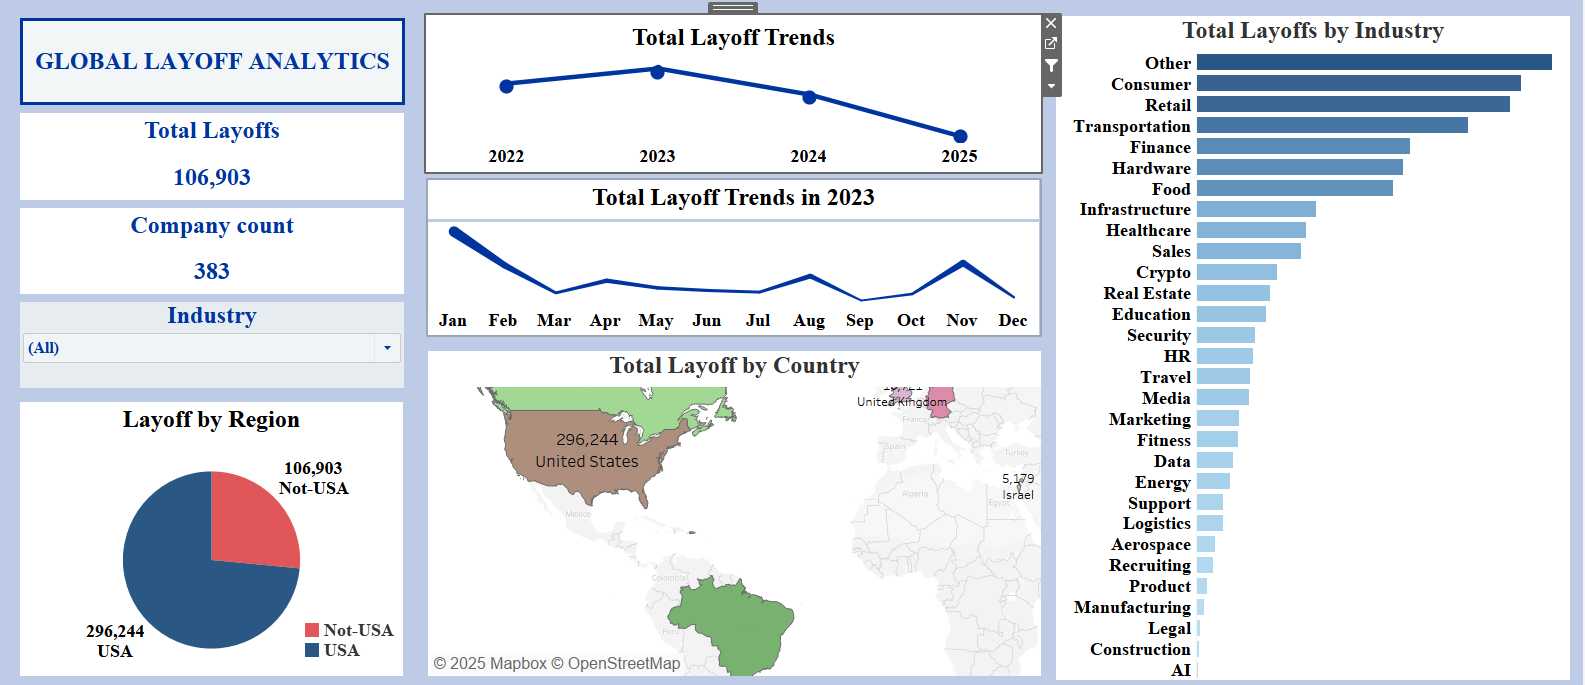

This screenshot's page, from the dashboard's own definition file:
{"tool":"tableau","page":{"name":"Intro-Layoff","canvas":[1000,1000],"units":"permille","ordinal":0},"visuals":[{"type":"blank","box":[5.1,11.6,989.8,976.9]},{"type":"text","box":[10.6,24.6,248.3,137.3]},{"type":"worksheet","title":"Total Layoff Trends","mark":"Line","rows":["total_laid_off","total_laid_off"],"cols":["date"],"box":[269.5,26,388.4,226.9]},{"type":"worksheet","title":"Total Layoffs by Industry","mark":"Automatic","rows":["industry"],"cols":["total_laid_off"],"box":[667.3,27.5,324.4,959.5]},{"type":"worksheet","title":"Total Laidoffs","mark":"Automatic","box":[10.8,161.8,247.6,137.3]},{"type":"legend","title":"company","param":"[federated.1p9ztxb1jo8dkp13gholg130fsgb].[ctd:company:qk]","box":[814.1,214.8,72.9,92.6]},{"type":"worksheet","title":"Total Layoff Trends  in 2023","mark":"Line","rows":["total_laid_off"],"cols":["date"],"box":[271.1,264.4,386,224]},{"type":"worksheet","title":"company","mark":"Text","box":[10.8,299.1,247.6,135.8]},{"type":"filter","title":"Total Layoffs by Industry","param":"[federated.1p9ztxb1jo8dkp13gholg130fsgb].[none:industry:nk]","box":[10.8,435,247.6,135.8]},{"type":"worksheet","title":"Total Laidoff by Country","mark":"Multipolygon","box":[271.1,511.6,387.3,469.7]},{"type":"worksheet","title":"Layoff by Region","mark":"Pie","box":[13.3,585.3,241.9,395.9]},{"type":"legend","title":"Layoff by Region","param":"[federated.1p9ztxb1jo8dkp13gholg130fsgb].[none:Region:nk]","box":[191.2,900,78.1,63.9]}]}

Visuals, with their boxes on the dashboard's canvas, which has no fixed pixel size, in thousandths of its width and height (x1, y1, x2, y2). These are canvas units, not pixel positions in the 1585x685 screenshot, which may show the page scaled, cropped or inside an application window:
blank: detection(5, 12, 995, 988)
text: detection(11, 25, 259, 162)
"Total Layoff Trends" worksheet (Line marks): detection(270, 26, 658, 253)
"Total Layoffs by Industry" worksheet: detection(667, 28, 992, 987)
"Total Laidoffs" worksheet: detection(11, 162, 258, 299)
"company" legend: detection(814, 215, 887, 307)
"Total Layoff Trends  in 2023" worksheet (Line marks): detection(271, 264, 657, 488)
"company" worksheet (Text marks): detection(11, 299, 258, 435)
"Total Layoffs by Industry" filter: detection(11, 435, 258, 571)
"Total Laidoff by Country" worksheet (Multipolygon marks): detection(271, 512, 658, 981)
"Layoff by Region" worksheet (Pie marks): detection(13, 585, 255, 981)
"Layoff by Region" legend: detection(191, 900, 269, 964)
